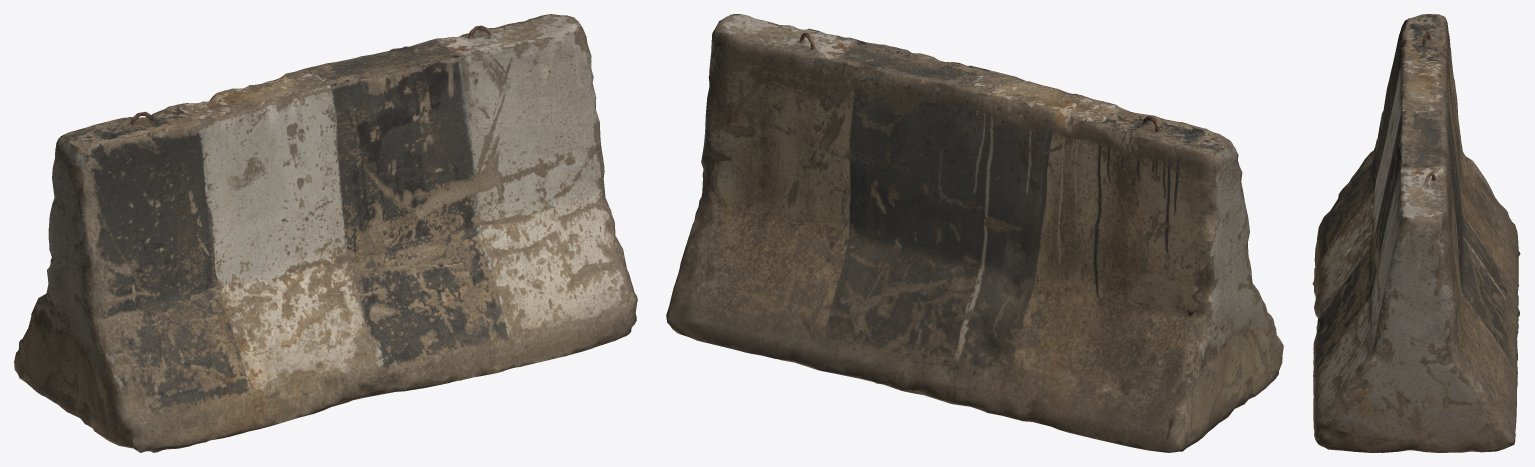
Rendered from concrete_road_barrier_lod.gltf.
3 renders of one model, left to right at view 1: azimuth 30°, elevation 25°; view 2: azimuth 150°, elevation 25°; view 3: azimuth 270°, elevation 25°, orthographic. The views are drawn at different scales.
Parts seen in each view (by area): view 1: concrete_road_barrier; view 2: concrete_road_barrier; view 3: concrete_road_barrier.
Part boxes in pixels (bbox=[...]): concrete_road_barrier: bbox=[14, 14, 637, 452]; concrete_road_barrier: bbox=[666, 14, 1283, 452]; concrete_road_barrier: bbox=[1312, 14, 1520, 452].
Size of the model in its own units: 1.54 by 0.8322 by 0.6387.
1 material, 1 textured.
